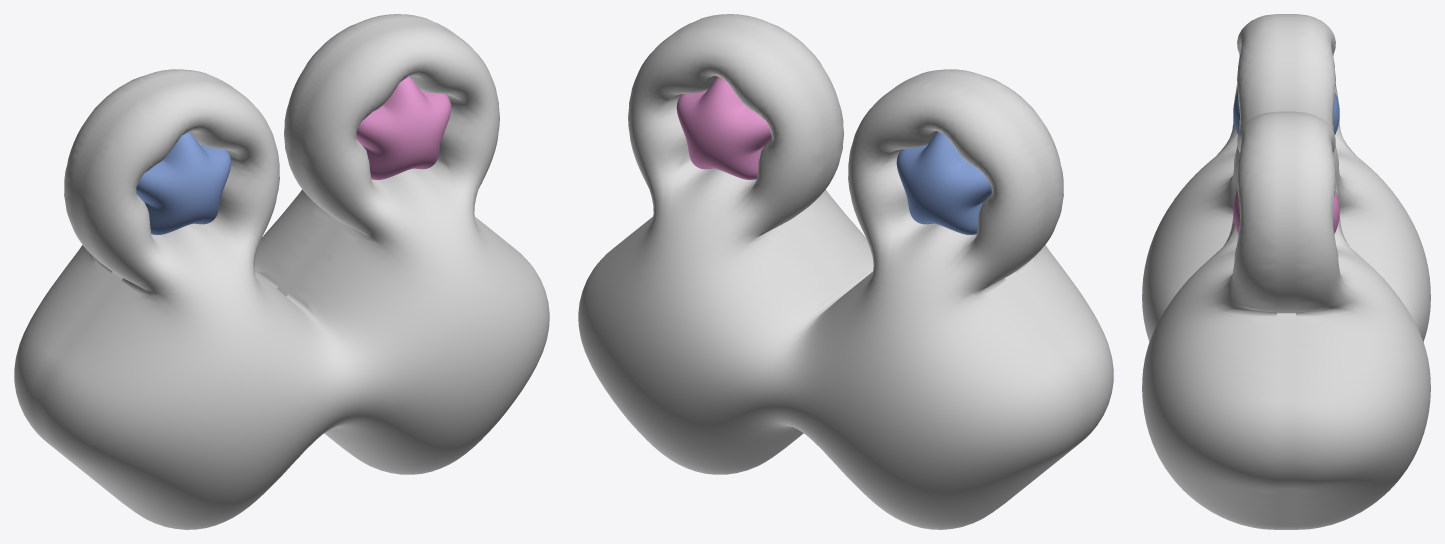
The model's file is 쌍둥이자리.glb.
The picture shows the model from 3 angles, left to right: view 1: azimuth 30°, elevation 25°; view 2: azimuth 150°, elevation 25°; view 3: azimuth 270°, elevation 25°; orthographic projection. The views are drawn at different scales.
Size of the model in its own units: 0.1117 by 0.0953 by 0.0618.
